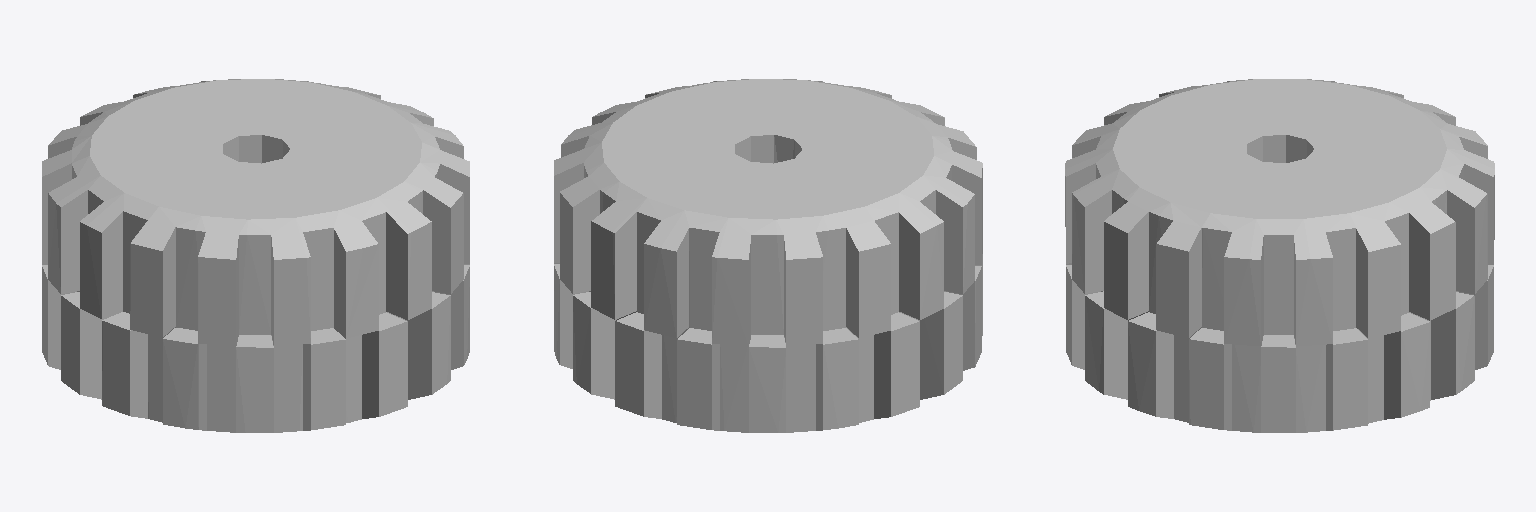
The model's file is Wheel_rear-left.obj.
The picture shows the model from 3 angles: view 1: azimuth 30°, elevation 25°; view 2: azimuth 150°, elevation 25°; view 3: azimuth 270°, elevation 25°; orthographic projection.
Size of the model in its own units: 21.63 by 11.9 by 21.7.